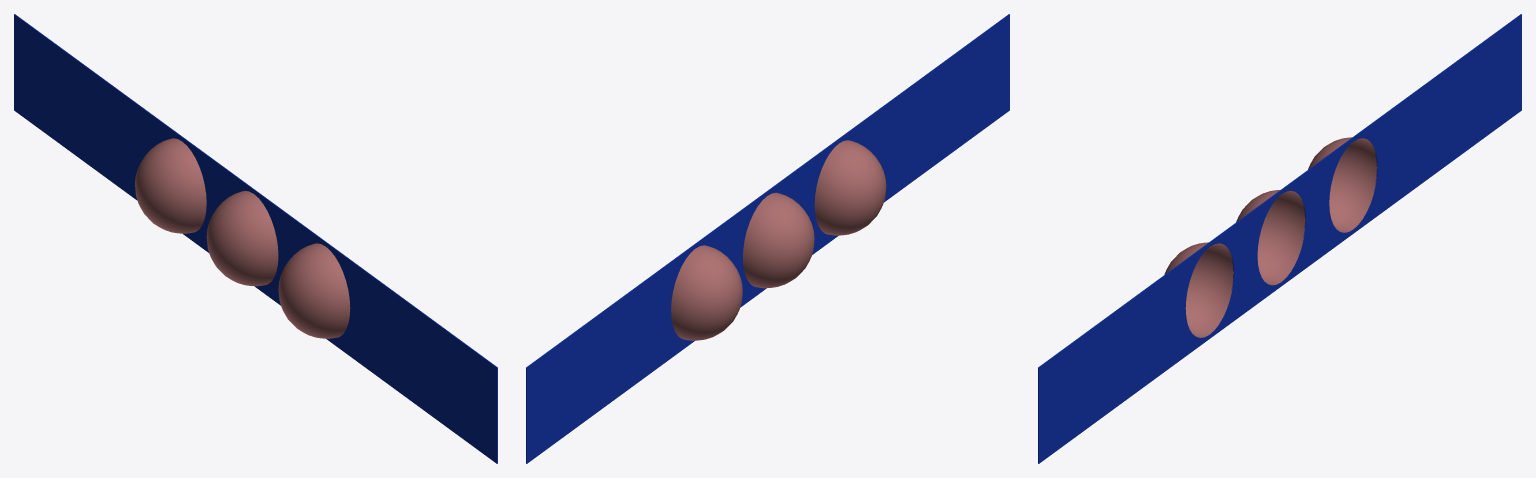
The model's file is 10x90 3 nipples.FBX.
3 renders of one model, left to right at view 1: azimuth 30°, elevation 25°; view 2: azimuth 150°, elevation 25°; view 3: azimuth 330°, elevation 25°, orthographic.
Visible parts, largest first — view 1: Box065; view 2: Box065; view 3: Box065.
Part boxes in pixels (x1,y1,x2,y2): Box065: [14, 14, 497, 463]; Box065: [526, 14, 1009, 463]; Box065: [1038, 14, 1521, 463].
Bounding box in the file's own units: 4.57 × 10 × 90.95.
